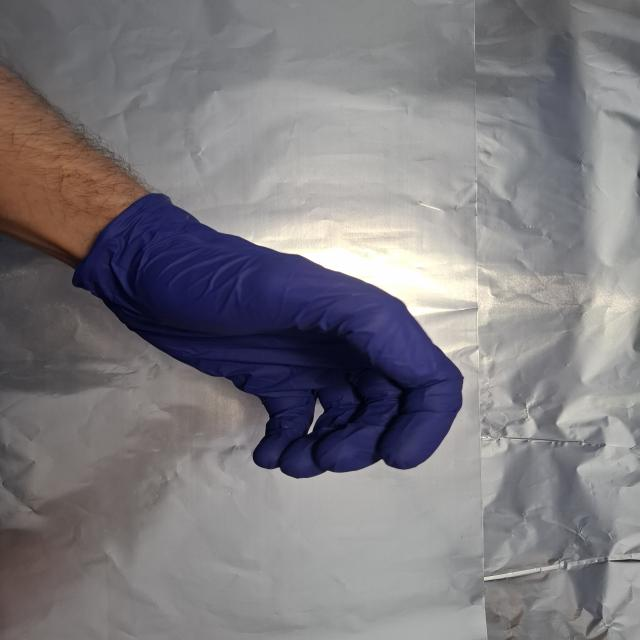glove_on: (78, 193, 467, 482)
